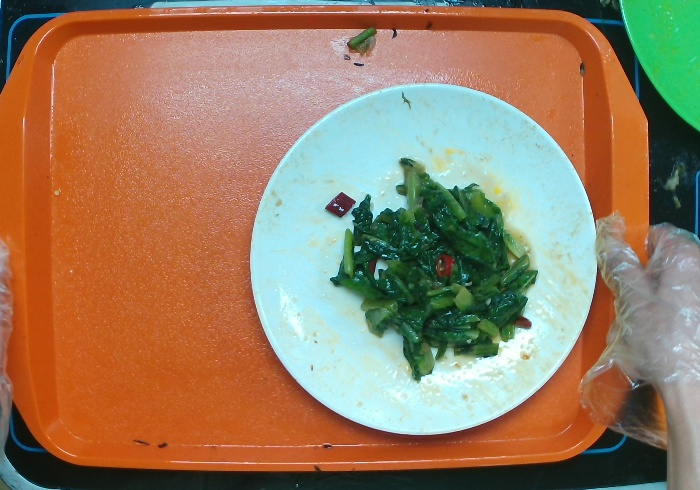HZYJPL-Bai_Se_Yuan_Pan: (242, 80, 611, 448)
